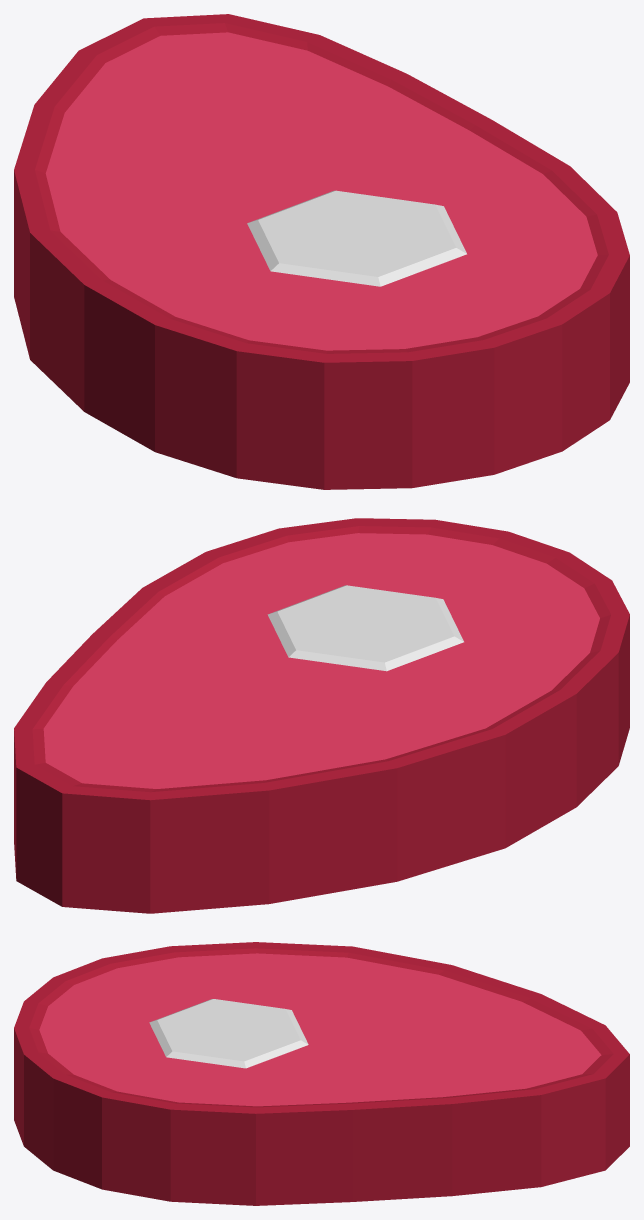
The model's file is Steak.fbx_Raw_Steak.fbx.
3 views of the same model, one above another, from view 1: azimuth 30°, elevation 25°; view 2: azimuth 150°, elevation 25°; view 3: azimuth 270°, elevation 25° (orthographic). The views are drawn at different scales.
Visible parts, largest first — view 1: Raw Steak; view 2: Raw Steak; view 3: Raw Steak.
Boxes of the visible parts, box(x1,y1,x2,y2) form: Raw Steak: box(14, 14, 629, 489); Raw Steak: box(14, 518, 629, 913); Raw Steak: box(14, 942, 629, 1205).
Size of the model in its own units: 200 by 303 by 51.93.
